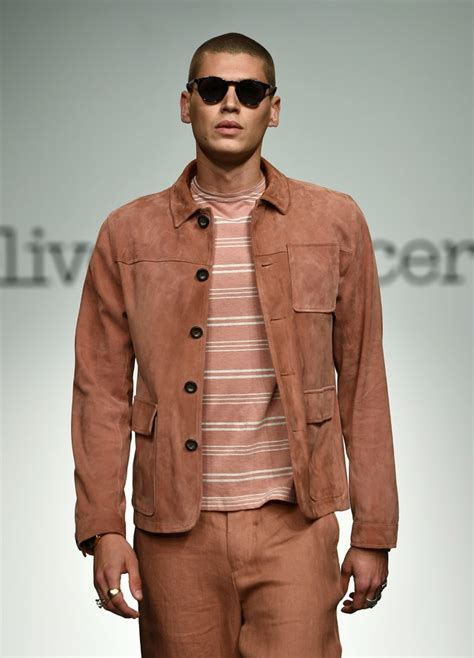gamuza: (72, 154, 400, 551)
